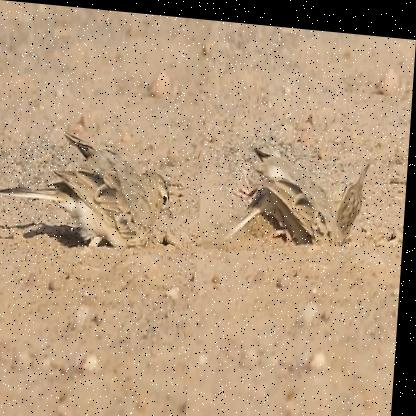Burung: (2, 126, 182, 247), (232, 146, 373, 244)
